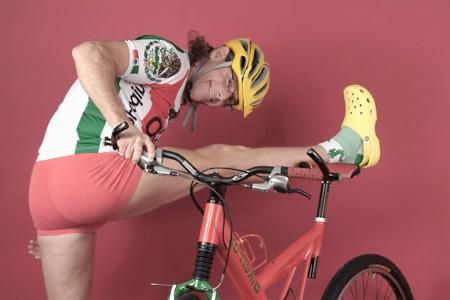With Helmet: (183, 32, 277, 127)
